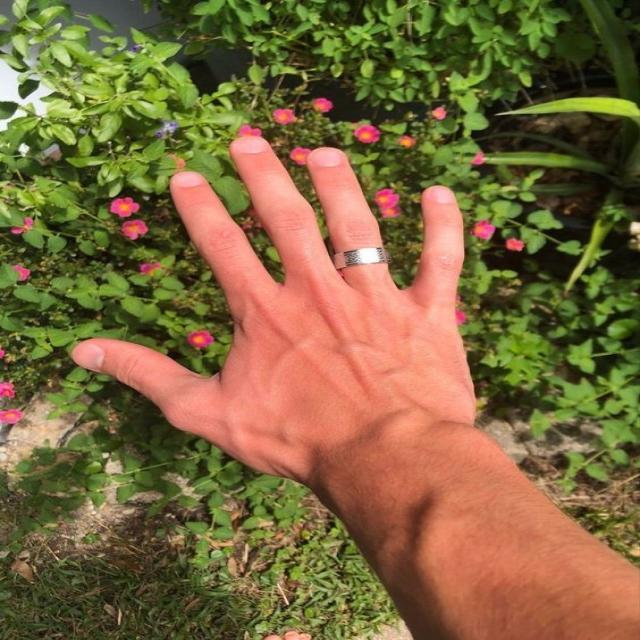Fingernail: (73, 343, 104, 370), (312, 149, 341, 167), (236, 137, 268, 153), (432, 187, 455, 205), (175, 172, 202, 187)
